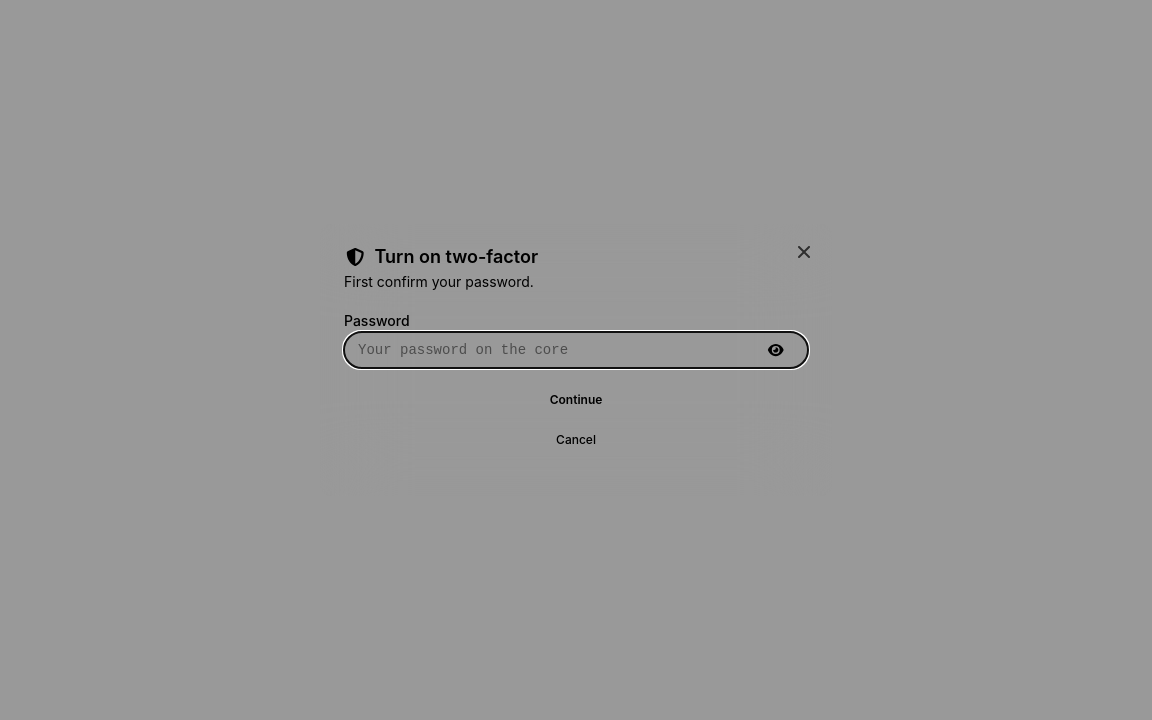
Test: TwoFactorDialog › says so when the password is wrong and stays on that step
The image size is (1152, 720).
Type "not the password" into the password field labelled "Password" at (576, 350), box [344,332,808,368]
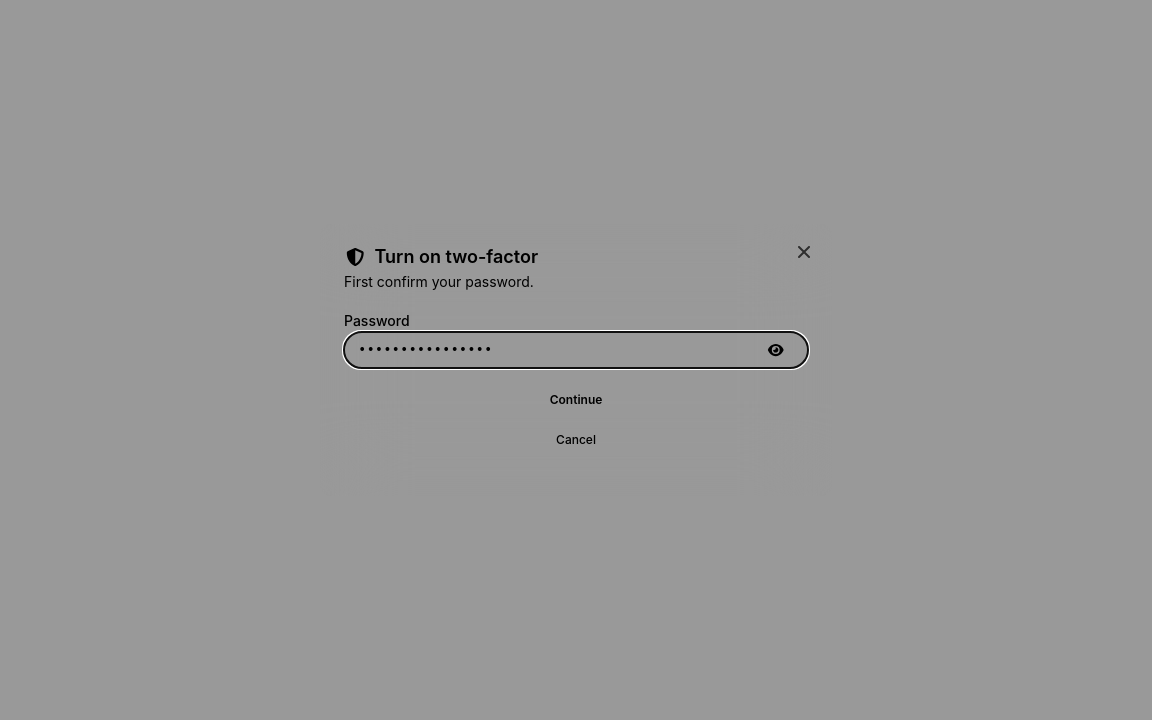
Click the button "Continue" at (576, 400), box [344,384,808,416]
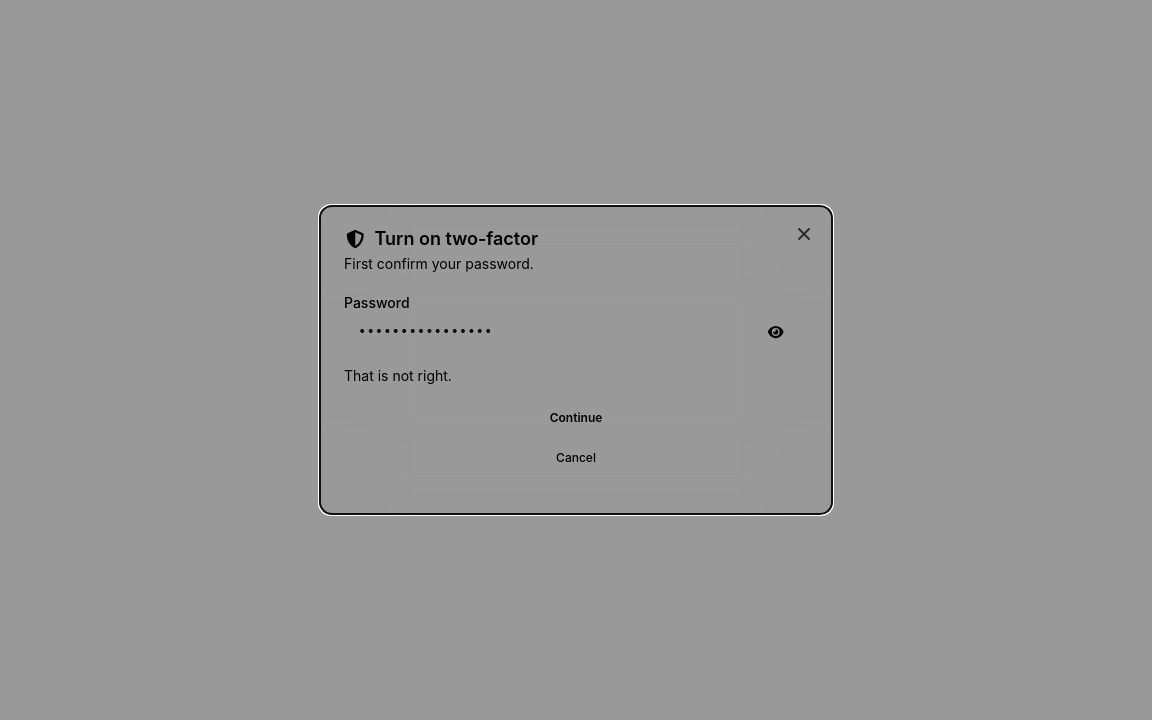
Now the message reads "That is not right.", box [344,367,452,384]
